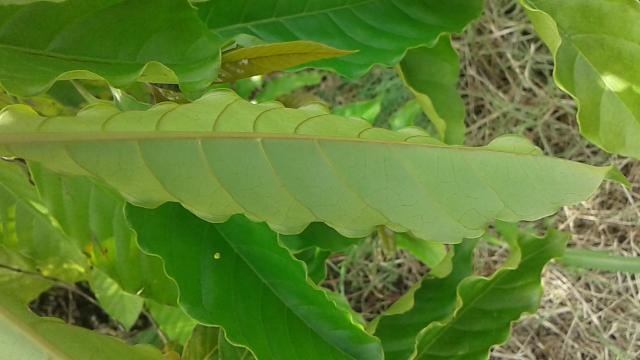healthy: (0, 82, 638, 244)
